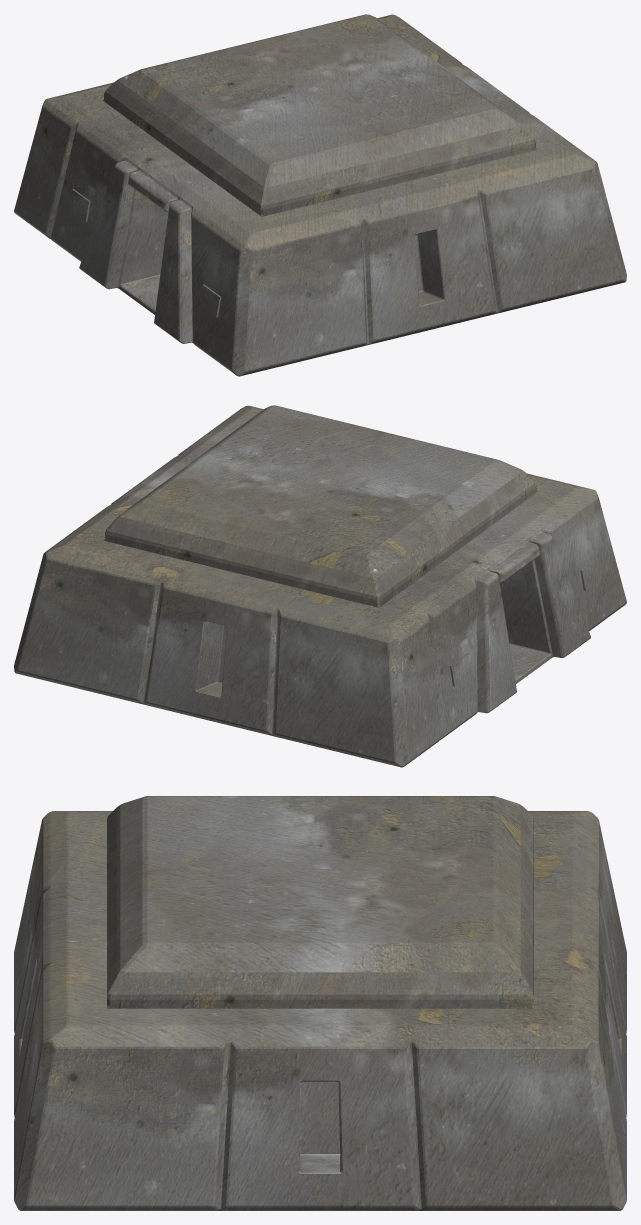
The model's file is Tower_Base.FBX.
3 renders of one model, top to bottom at view 1: azimuth 30°, elevation 25°; view 2: azimuth 150°, elevation 25°; view 3: azimuth 270°, elevation 25°, orthographic. The views are drawn at different scales.
Visible parts, largest first — view 1: Box01; view 2: Box01; view 3: Box01.
Boxes of the visible parts, <box> form: Box01: <box>14,14,626,376</box>; Box01: <box>14,405,626,767</box>; Box01: <box>14,796,626,1210</box>.
Size of the model in its own units: 196 by 192 by 73.78.
Materials: 1 (1 with a texture image).
